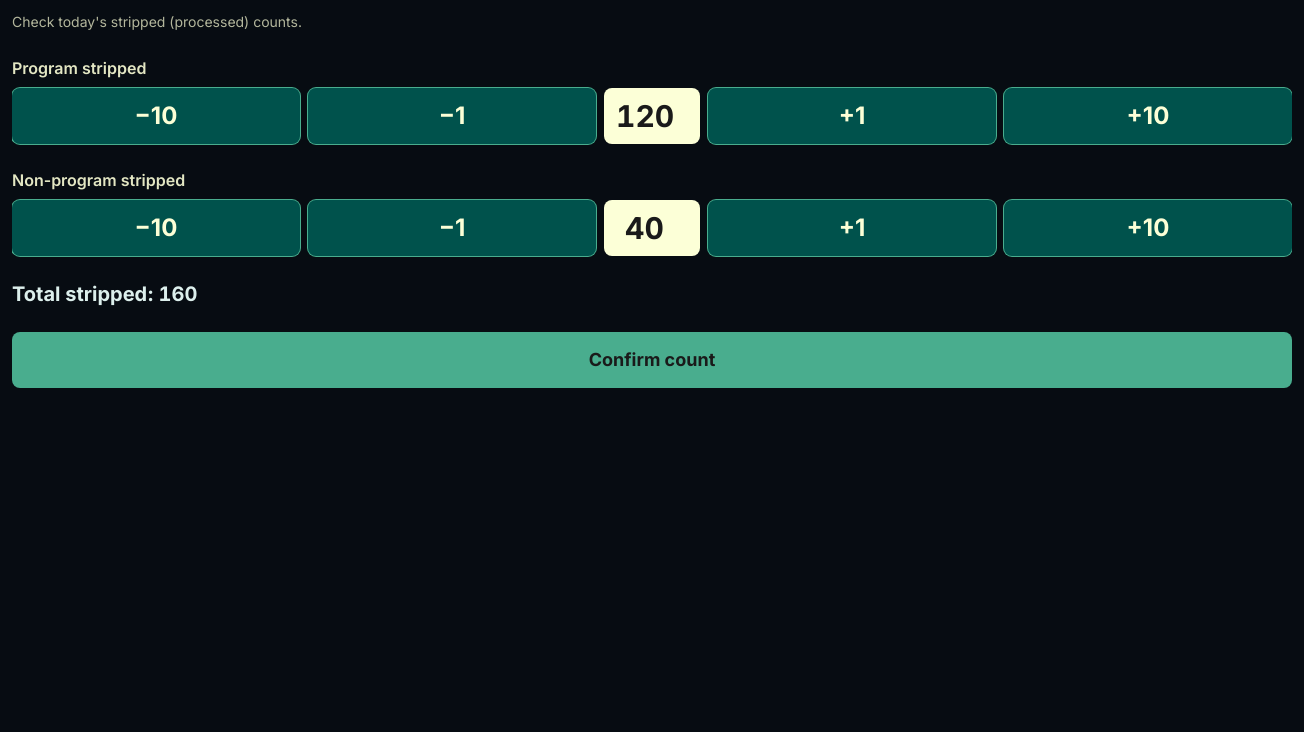
Test: 422 date_not_today › names the day, and not the generic failure
Click the button "Confirm count": [652, 360] box [12,332,1292,388]
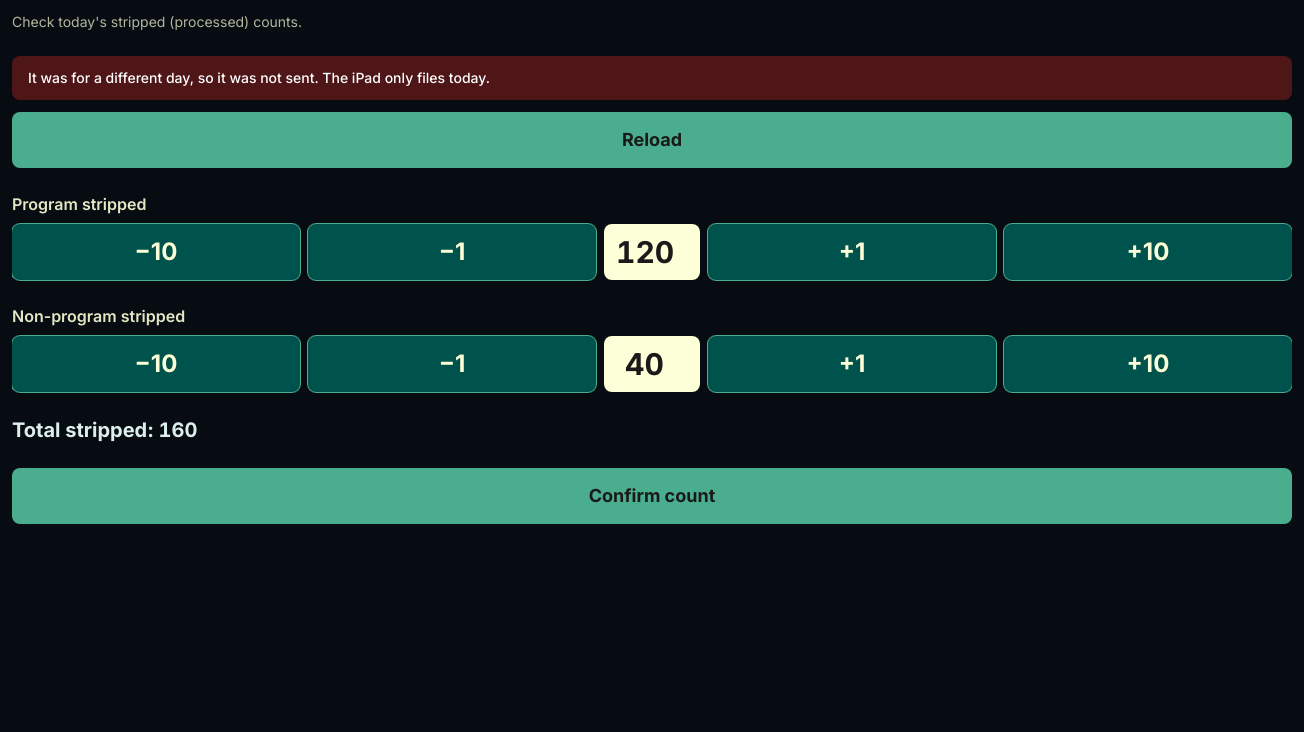
Result: the element with test id "write-refusal" is shown at [12,56,1292,168]
Result: the text "It was for a different day, so it was not sent. The iPad only files today." is shown at [12,56,1292,100]
